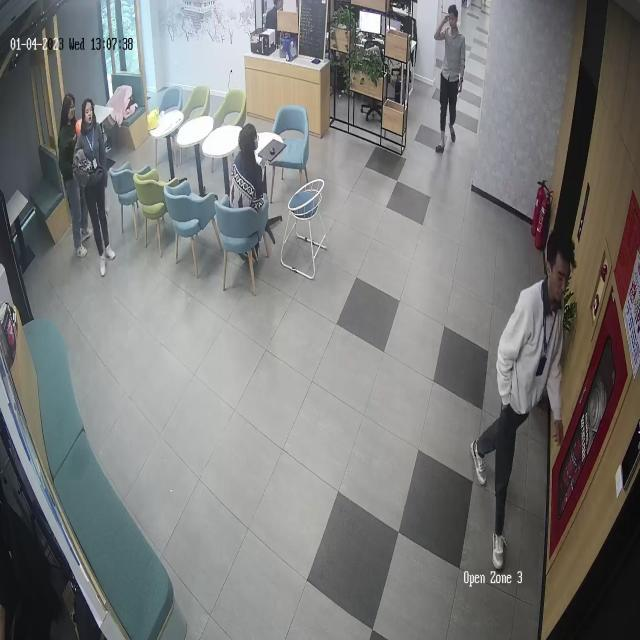person: (470, 227, 578, 570), (72, 92, 125, 278), (230, 121, 277, 259), (58, 92, 88, 259), (434, 4, 466, 154)
